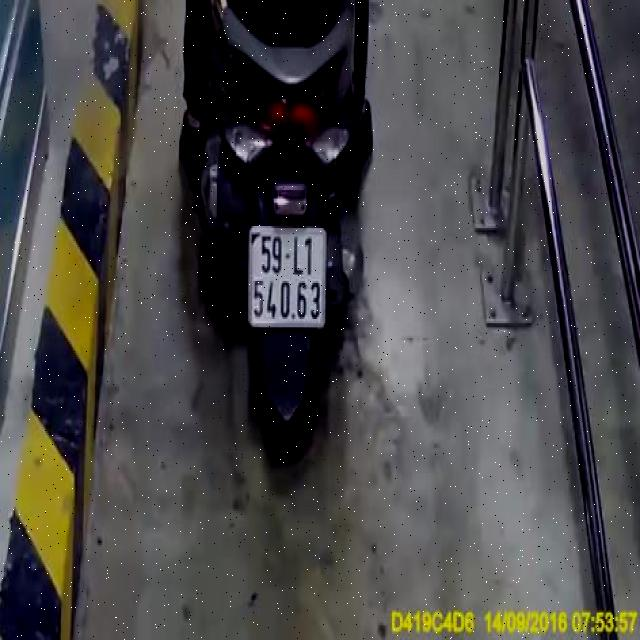0: (280, 278, 290, 321)
1: (304, 235, 313, 276)
3: (310, 280, 321, 322)
4: (267, 280, 278, 322)
5: (262, 234, 274, 274), (254, 276, 264, 321)
6: (297, 280, 308, 318)
9: (273, 231, 284, 275)
L: (293, 234, 302, 278)
